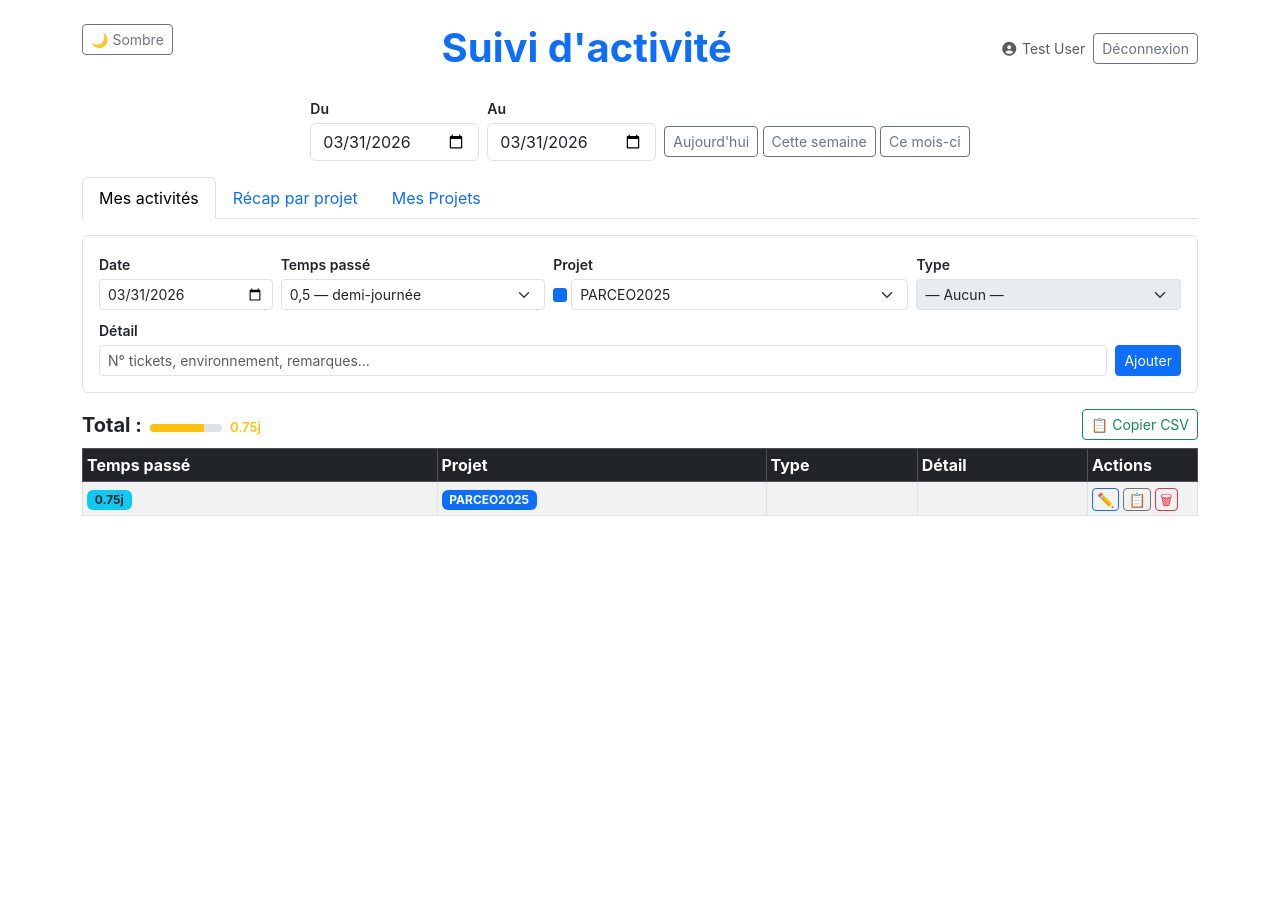
Test: Alerte dépassement journalier — interface › enregistre l activite si on confirme
The image size is (1280, 900).
Click the button "Ajouter": (1148, 360) [1115,345,1181,376]
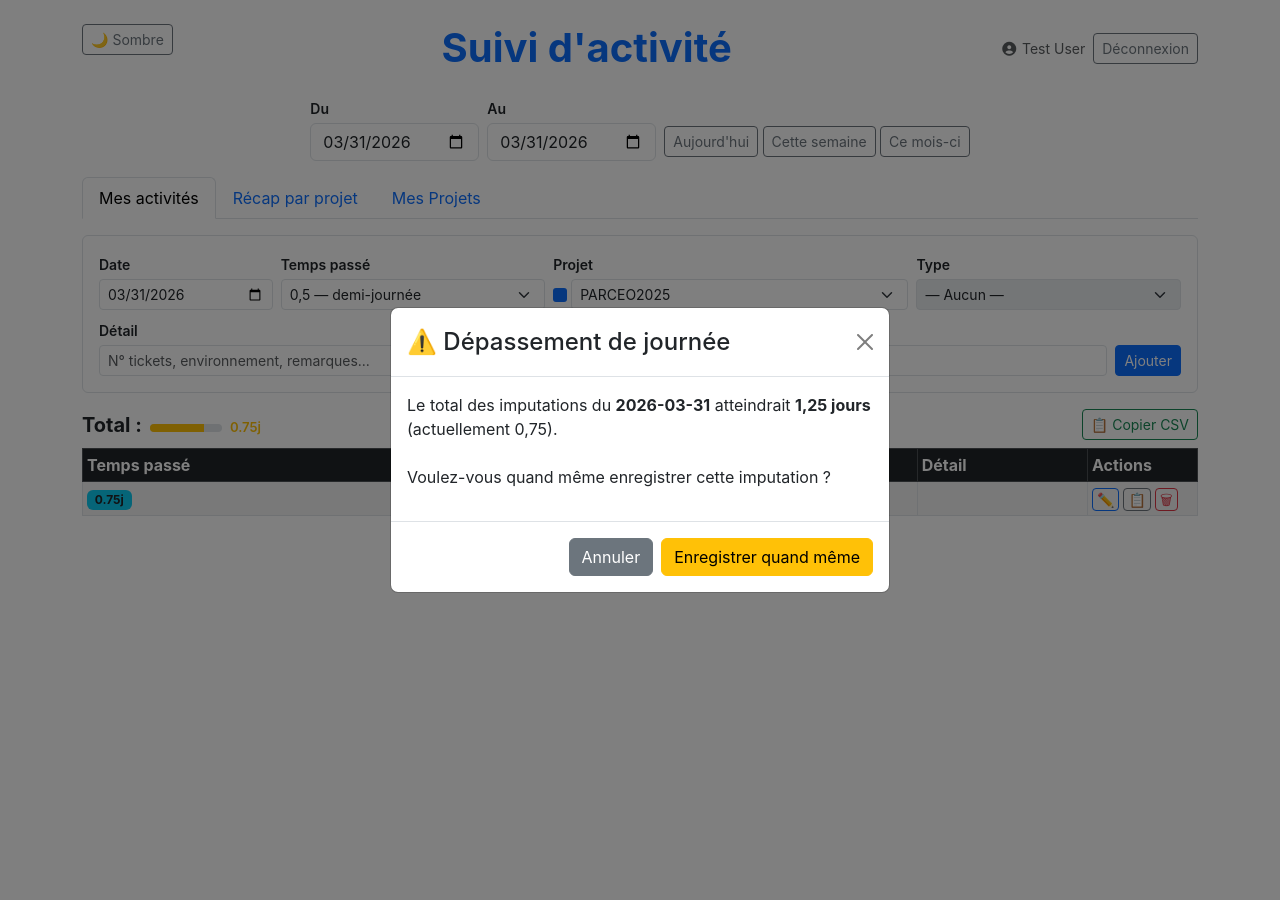
Expected: the text "⚠️ Dépassement de journée" is shown, [407,324,730,360]
Click the button "Enregistrer quand même": (767, 557) [661,538,873,576]
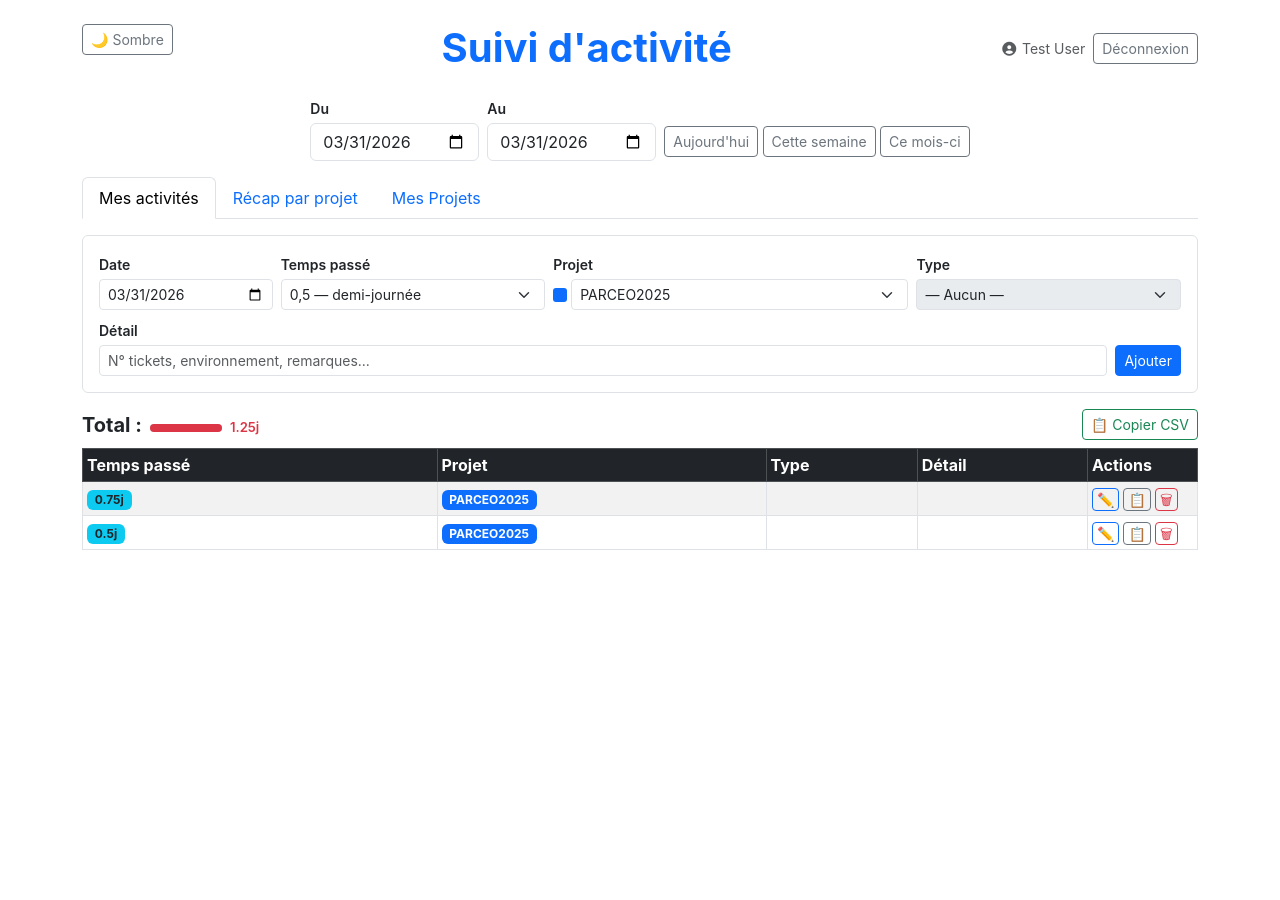
Expected: the text "⚠️ Dépassement de journée" is gone
